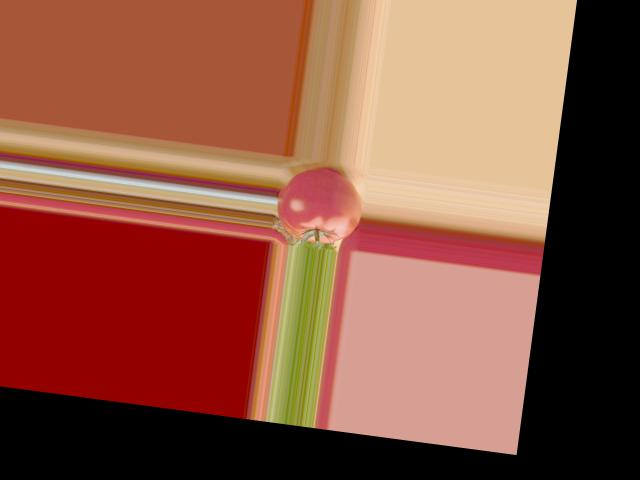tomato: (273, 164, 366, 247)
